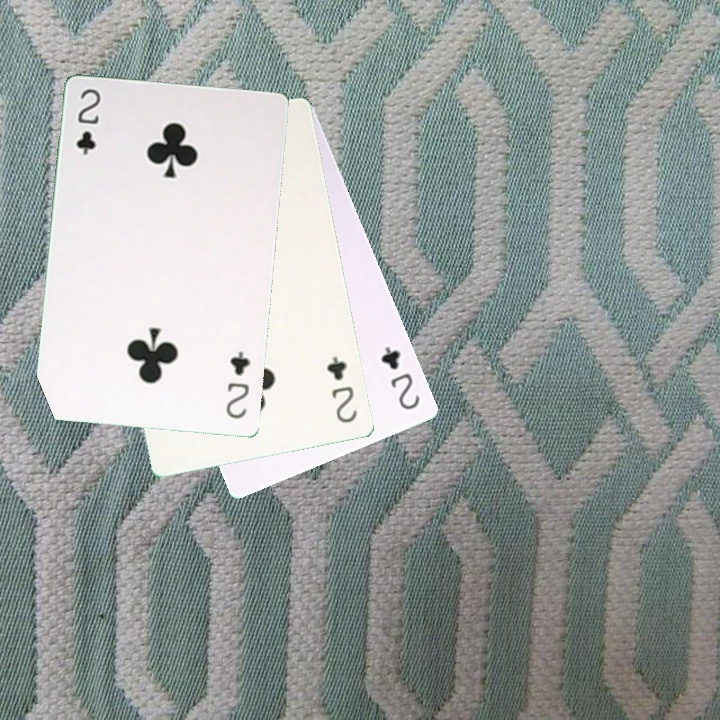2c: (376, 342, 423, 413), (323, 352, 360, 426), (72, 85, 103, 158), (222, 347, 252, 421)
